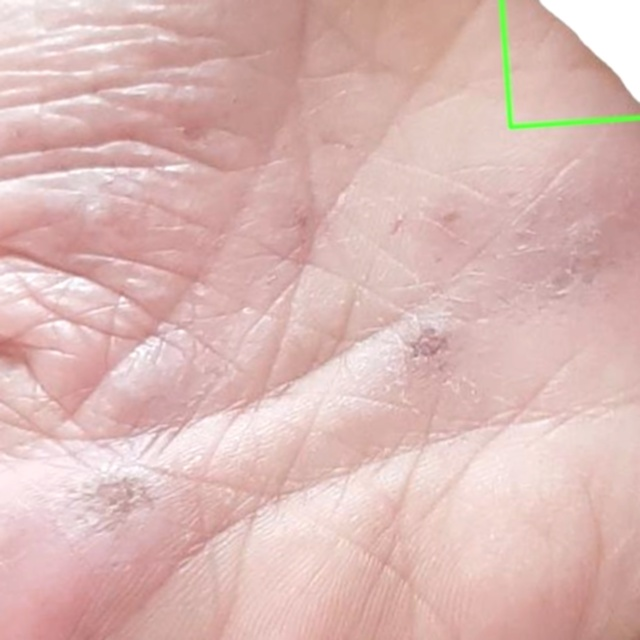Contact Dermatitis: (501, 0, 639, 126)
